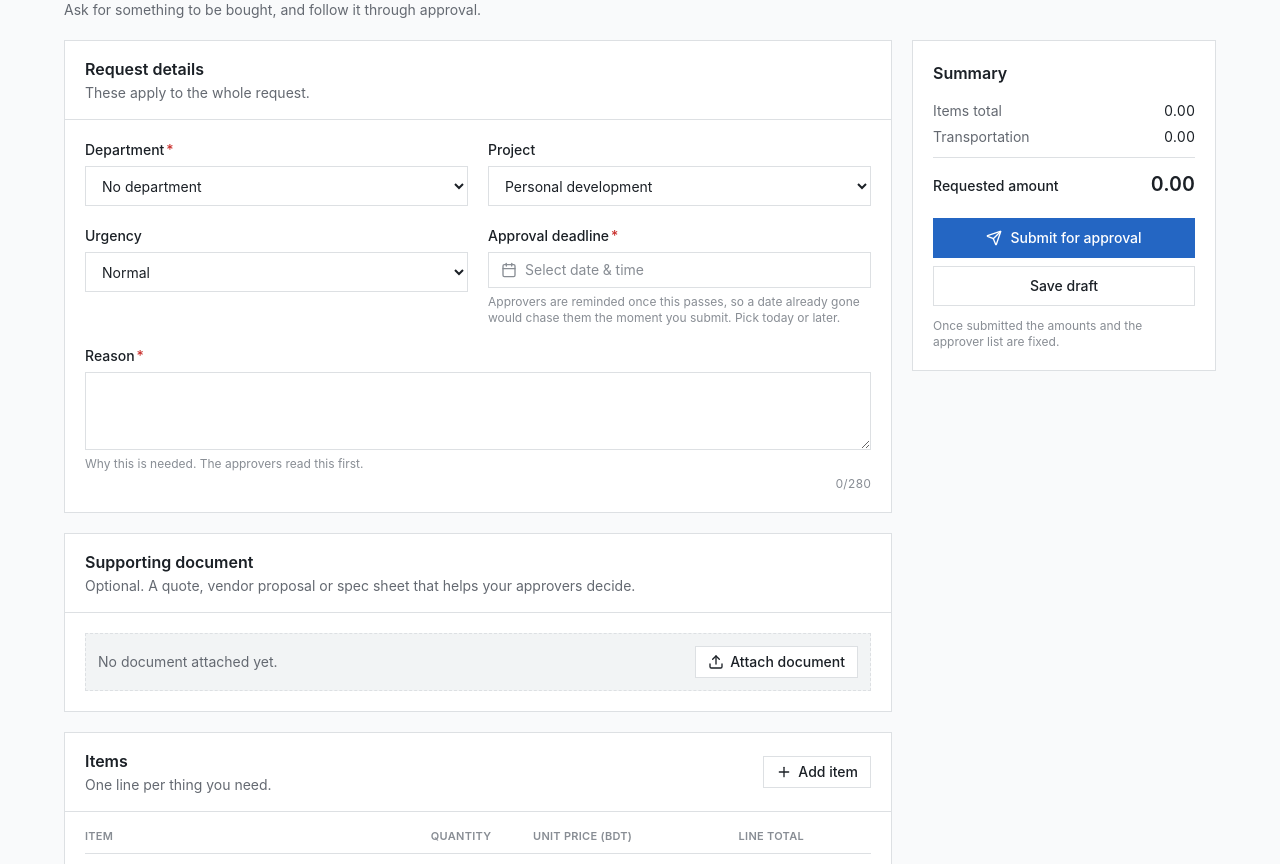
Test: the items table › still names each column once after more rows are added
Click the button "Add item" at (817, 772), box 763,756 -> 871,788
(page scrolled)
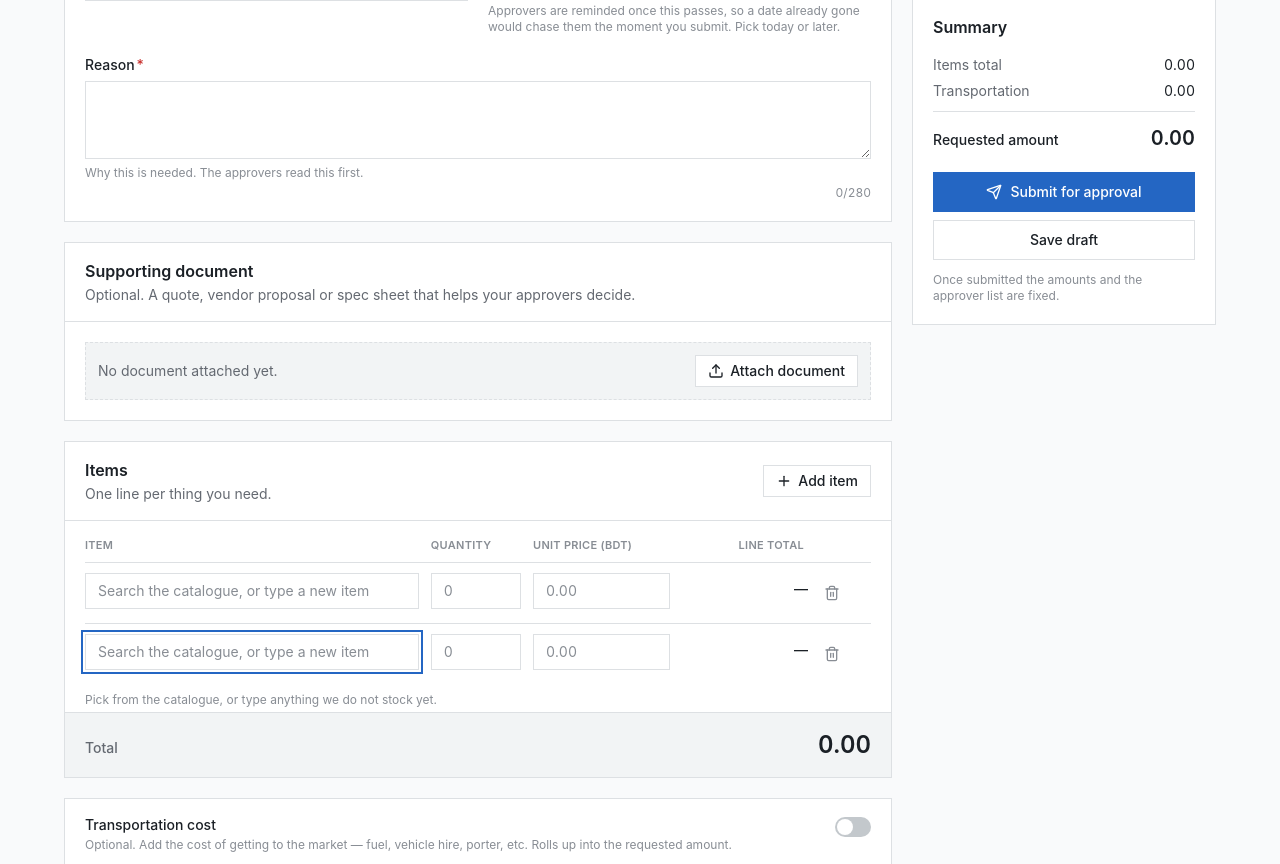
Click the button "Add item" at (817, 481), box 763,465 -> 871,497
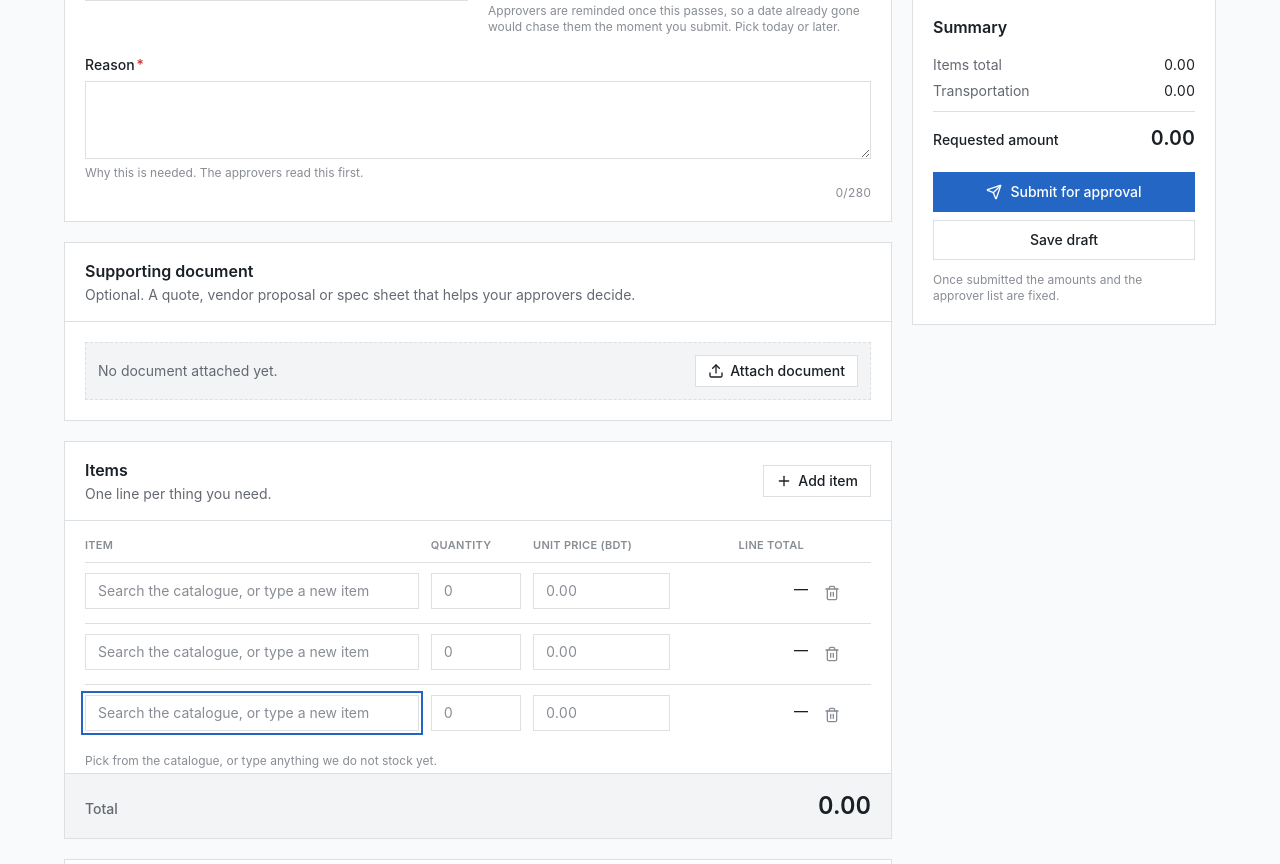
Check: the number of column headings is 5, box 85,537 -> 431,562; 431,537 -> 533,562; 533,537 -> 682,562; 682,537 -> 816,562; 816,537 -> 871,562
Check: the number of rows is 4, box 85,537 -> 871,562; 85,562 -> 871,623; 85,623 -> 871,684; 85,684 -> 871,744
